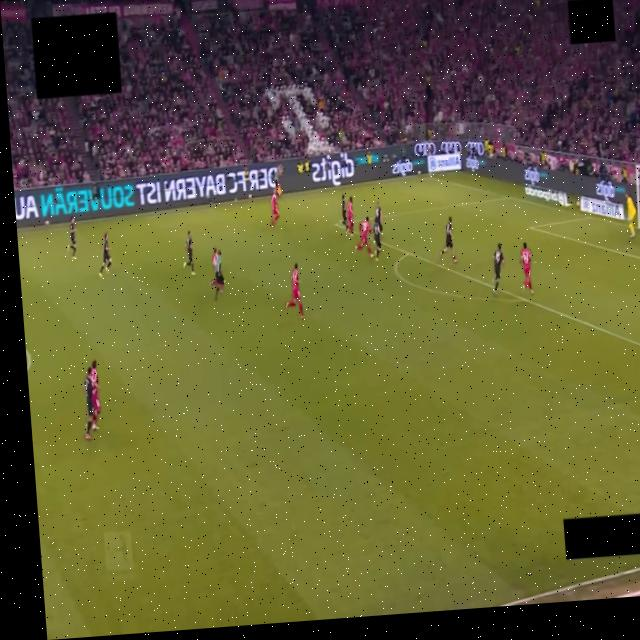player: (285, 264, 303, 319), (439, 216, 457, 263), (90, 361, 100, 429), (520, 243, 533, 294), (355, 216, 371, 257), (84, 367, 93, 439), (99, 233, 111, 277), (493, 244, 503, 295), (183, 231, 194, 274), (626, 194, 636, 237), (67, 218, 76, 259), (372, 221, 381, 261), (270, 189, 278, 226), (346, 197, 353, 235), (374, 202, 382, 233), (341, 195, 347, 232)
referee: (210, 249, 223, 300)
